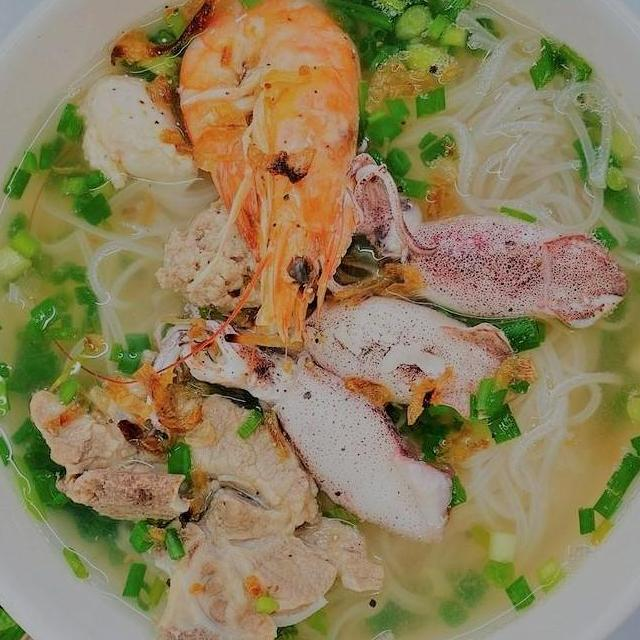banh hu tieu: (400, 362, 640, 622), (56, 446, 324, 632), (434, 68, 591, 208)
hu tieu: (0, 0, 640, 640)
muc: (349, 152, 640, 336)
thit bam: (314, 152, 450, 276)
thit heo: (300, 335, 497, 628), (214, 247, 390, 536)
tom: (157, 0, 361, 331)
